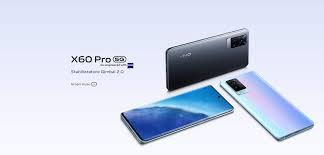Smartphone: (118, 85, 236, 149), (229, 72, 315, 151), (165, 25, 254, 91)
